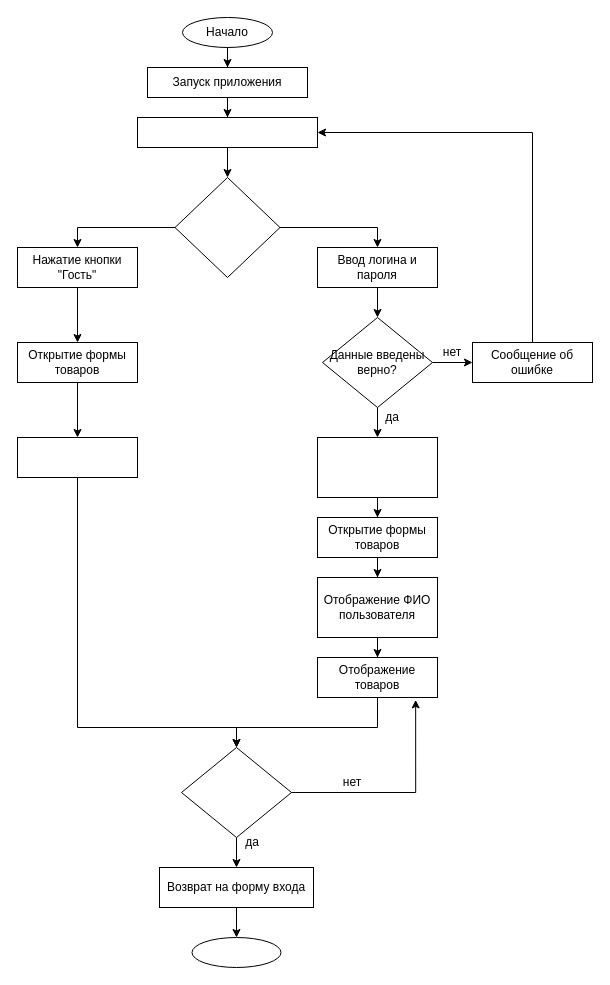
Image size: 610x985. Some labels were removed from this diagram. The box of each missing label's shape, as (x1, y1, x2, y2) in pixels:
Выбор режима работы: (174, 176, 280, 278)
Конец: (191, 936, 281, 968)
Нажата кнопка "Выход"?: (180, 746, 292, 838)
Открытие формы входа: (136, 116, 318, 148)
Получение ФИО и роли пользователя: (316, 436, 438, 498)
Просмотр товаров: (16, 436, 138, 478)
